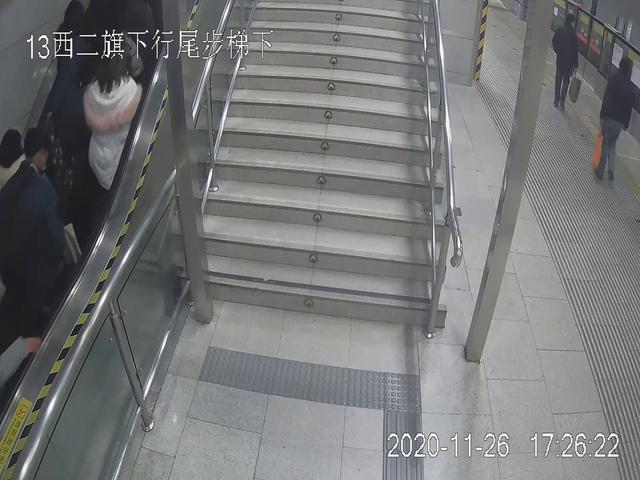person: (76, 44, 144, 204), (543, 6, 593, 122), (596, 60, 640, 179)
